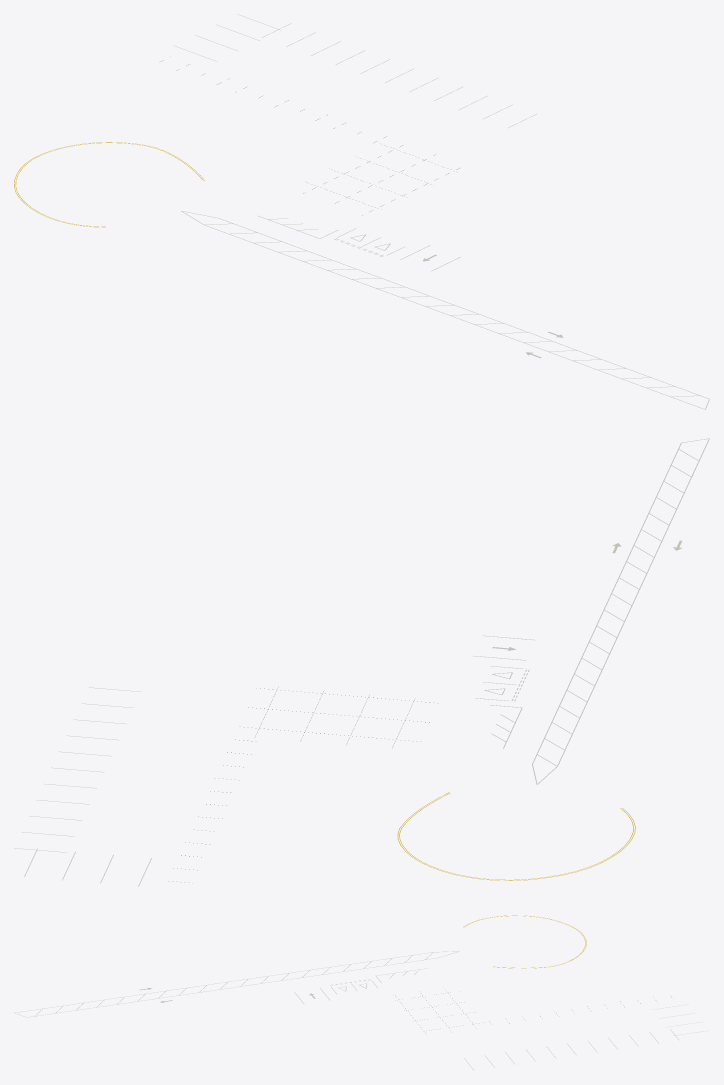
The model's file is road_markings.glb.
The picture shows the model from 3 angles, top to bottom: view 1: azimuth 30°, elevation 25°; view 2: azimuth 150°, elevation 25°; view 3: azimuth 270°, elevation 25°; orthographic projection. The views are drawn at different scales.
Parts seen in each view (by area): view 1: road_markings_145; view 2: road_markings_145, road_markings_147; view 3: road_markings_145.
Part boxes in pixels (<box>): road_markings_145: <box>173,14,709,409</box>; road_markings_145: <box>14,438,709,886</box>; road_markings_147: <box>397,792,635,880</box>; road_markings_145: <box>14,951,708,1069</box>.
Bounding box in the file's own units: 84.51 × 0.011 × 160.
